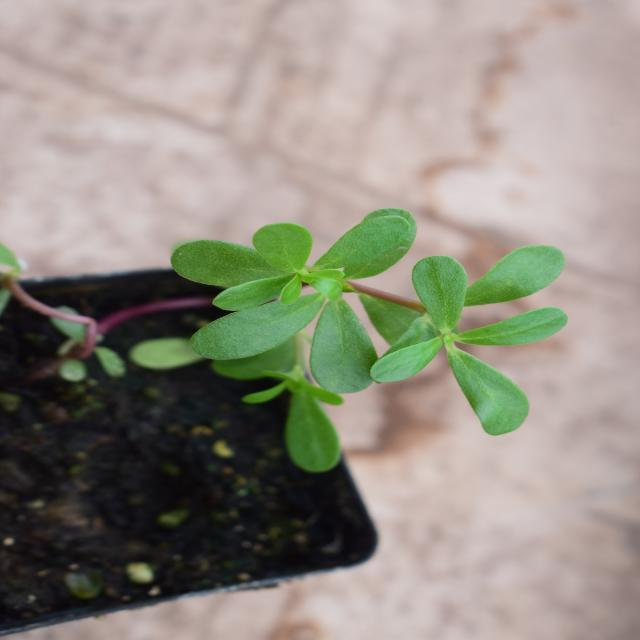purslane: (188, 48, 464, 532)
